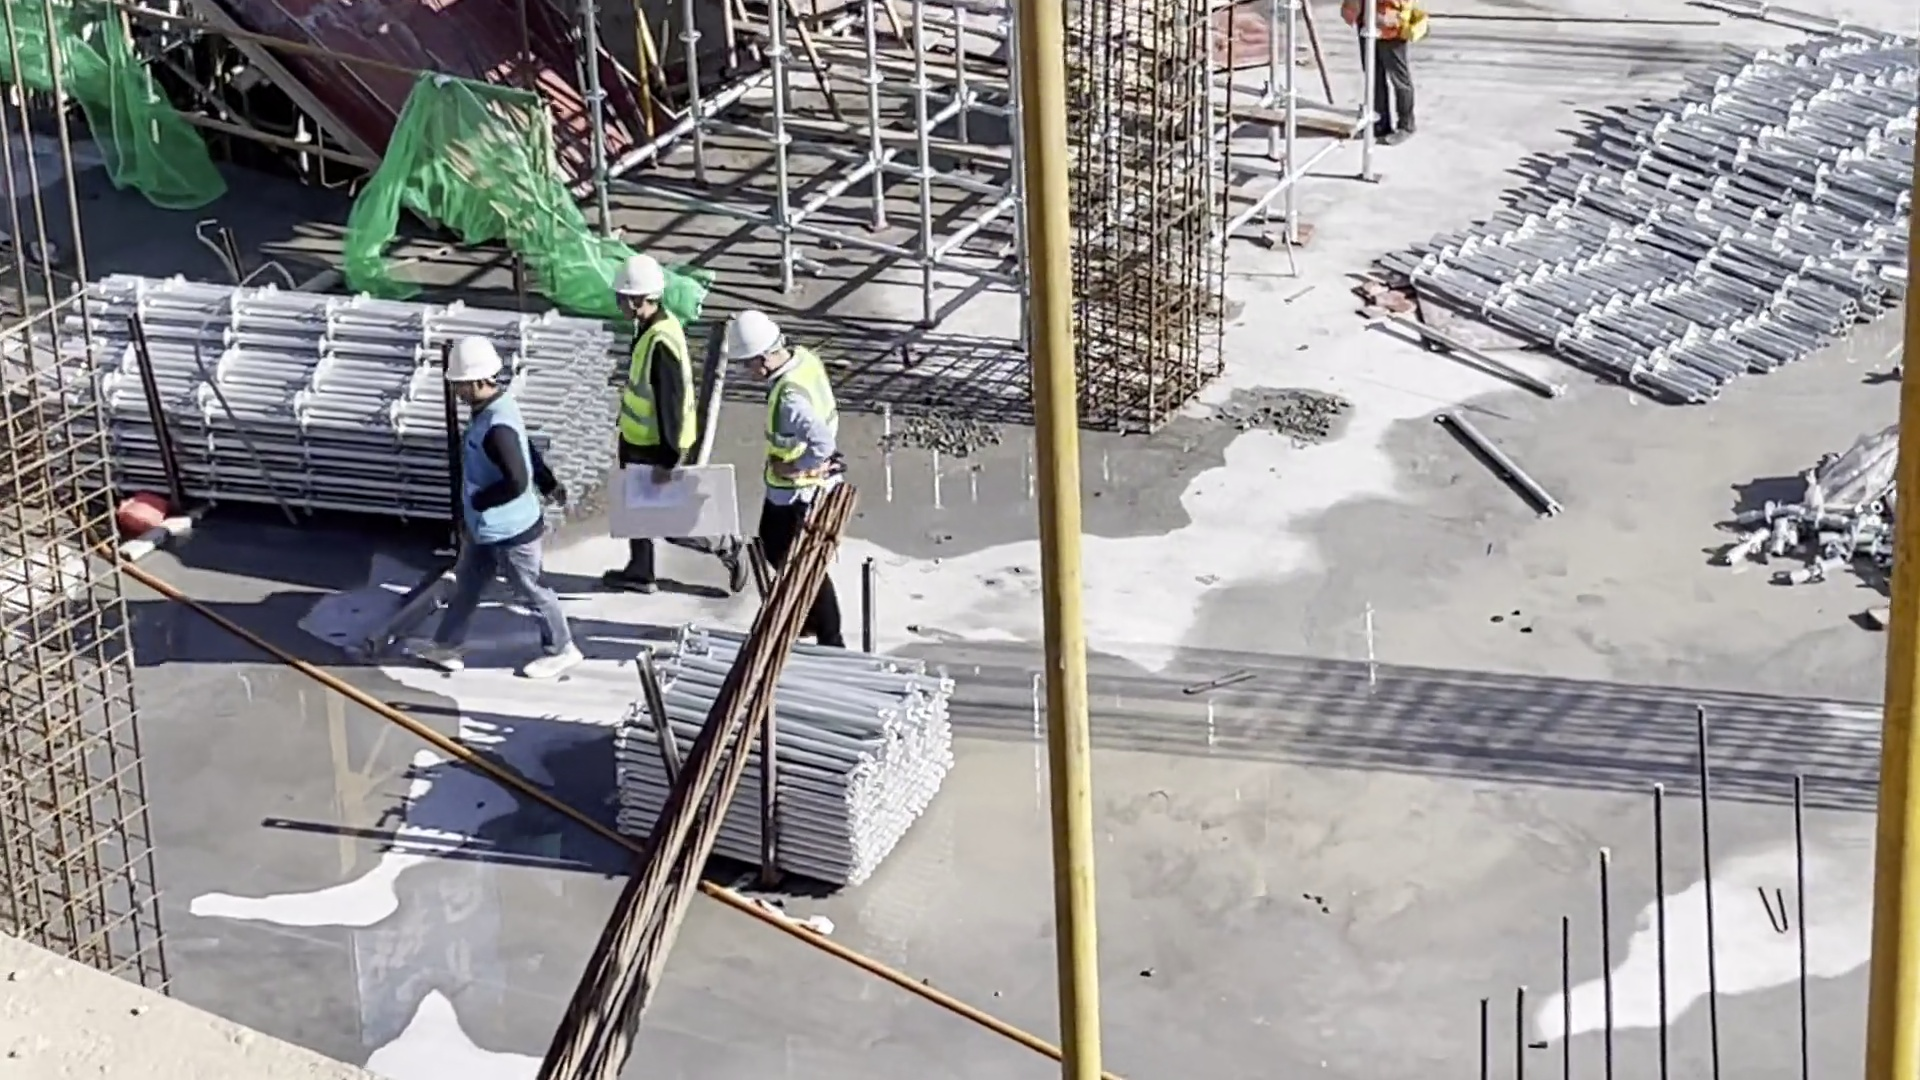helmet: (443, 336, 502, 381), (729, 310, 779, 361), (609, 255, 664, 294)
person: (411, 335, 587, 682), (599, 251, 749, 601), (729, 305, 852, 652), (1341, 1, 1421, 148)
vest: (458, 391, 540, 545), (617, 313, 696, 447), (765, 351, 840, 487)
